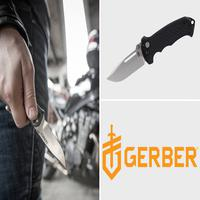knife: (5, 32, 75, 179), (103, 13, 200, 84)
